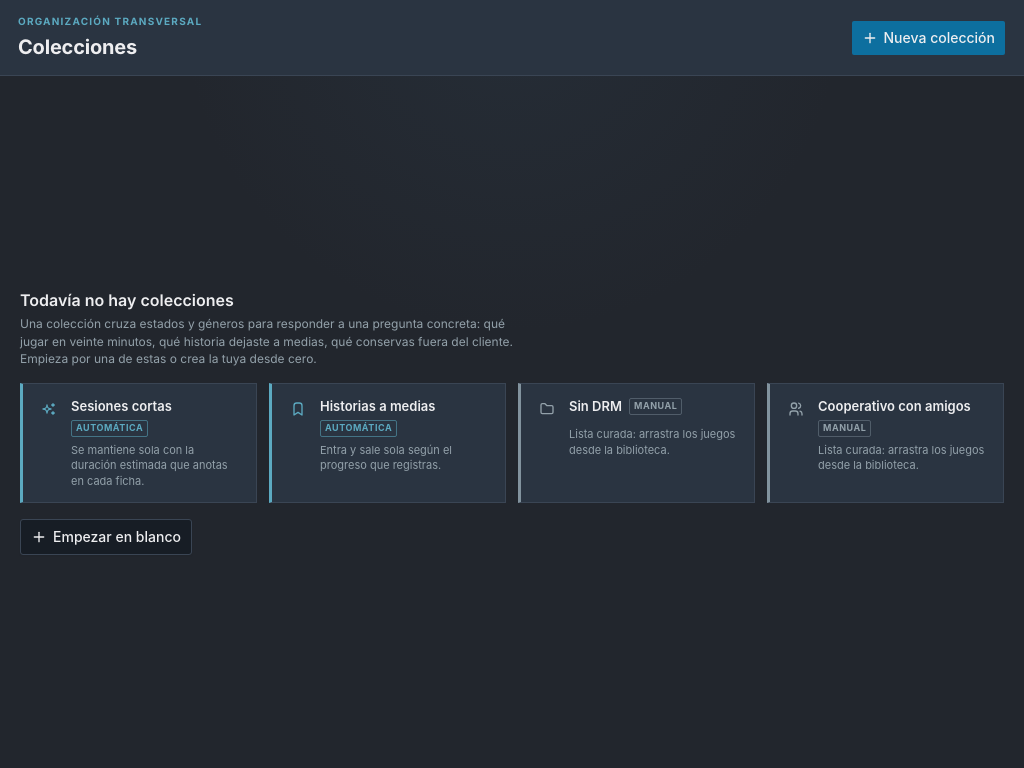
pantalla de colecciones › propone plantillas accionables cuando todavía no hay ninguna colección
Expected: the heading "Todavía no hay colecciones" is shown, [20,290,234,310]
Expected: the button "Sesiones cortas" is shown, [20,383,257,503]
Click the button "Historias a medias": [388, 443] box [269,383,506,503]
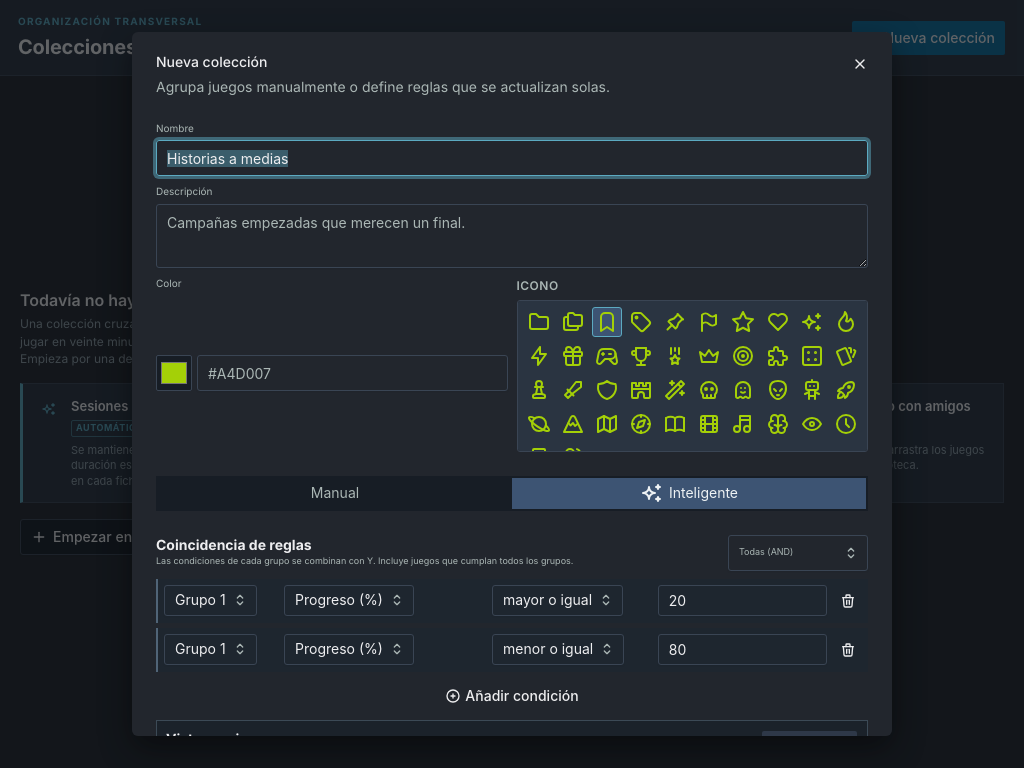
Now the heading "Nueva colección" is shown, box [156,54,268,71]
Now the field labelled "Nombre" holds "Historias a medias", box [156,140,868,176]
Now the number of dropdowns named "Campo de la regla" is 2, box [284,585,414,616]; [284,634,414,665]
